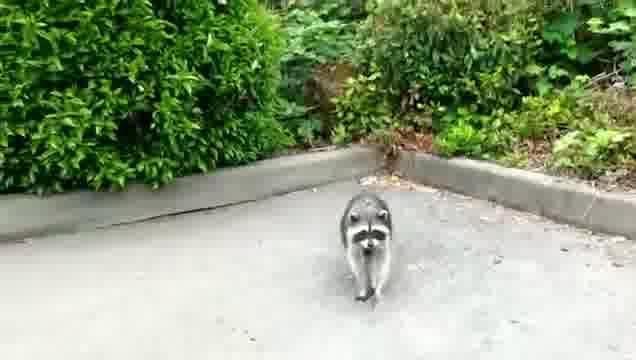raccoon: (336, 191, 400, 310)
